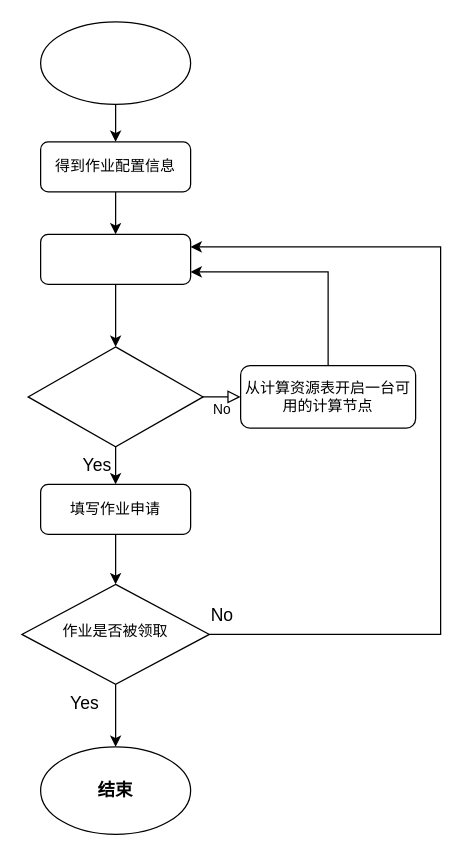
Image size: 473x856. Some labels were removed from this diagram. Each missing label, with the centre of its shape:
开始: (x=115, y=62)
是否有足够的计算资源: (x=115, y=396)
查找计算资源表: (x=115, y=258)
